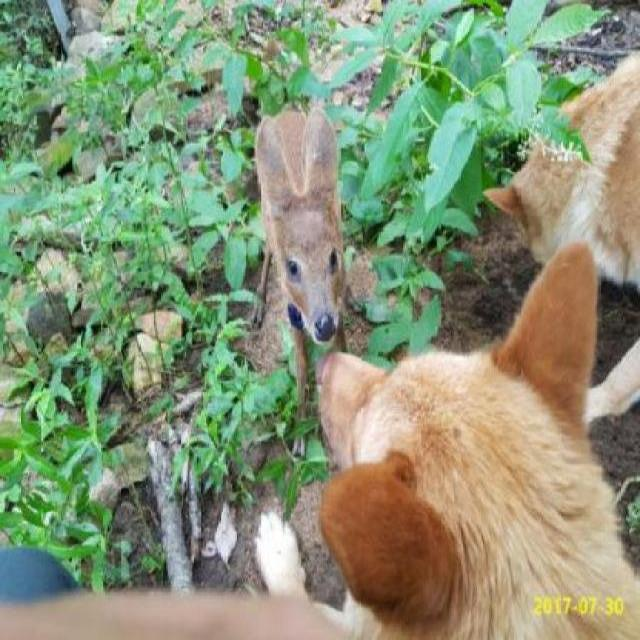deer: (242, 106, 366, 349)
